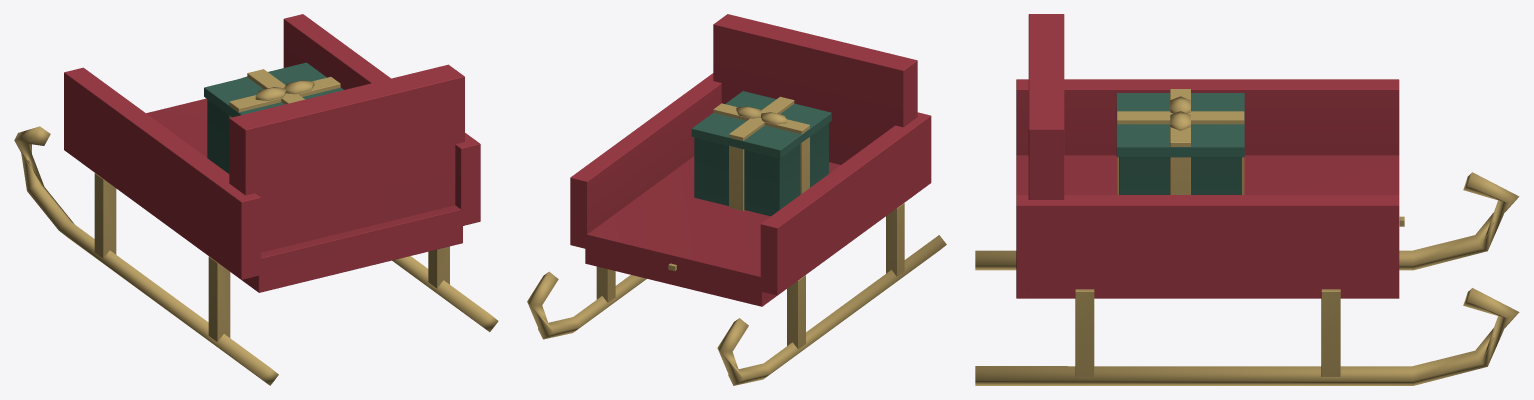
The model's file is sleigh_low.glb.
3 views of the same model, side by side, from view 1: azimuth 30°, elevation 25°; view 2: azimuth 150°, elevation 25°; view 3: azimuth 270°, elevation 25° (orthographic). The views are drawn at different scales.
Bounding box in the file's own units: 1.09 × 1.03 × 1.99.
